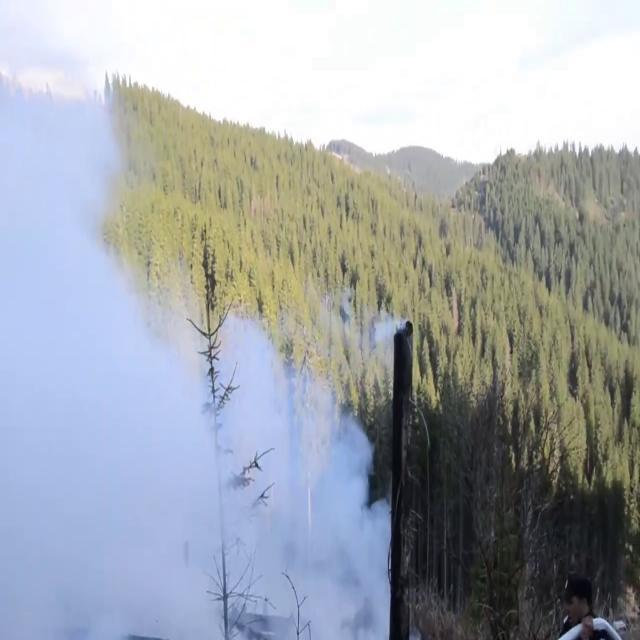Smoke: (0, 1, 185, 638), (180, 282, 388, 636)
